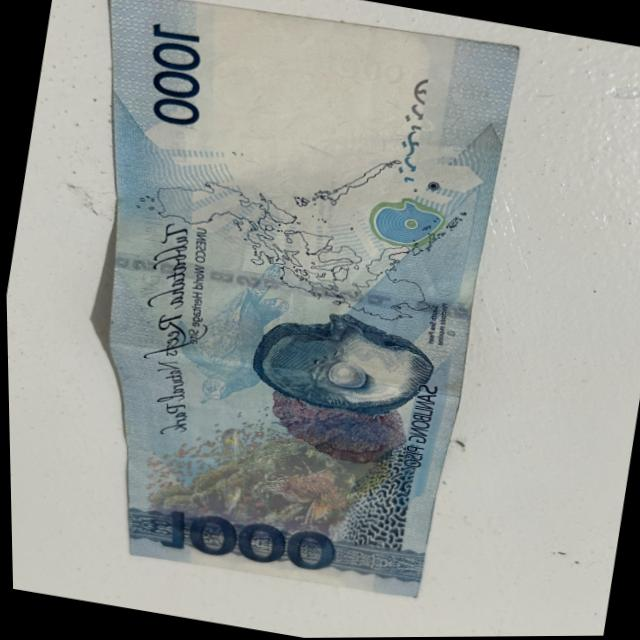1000_pearl: (248, 314, 415, 426)
1000_pearl_watermark: (364, 198, 439, 252)
